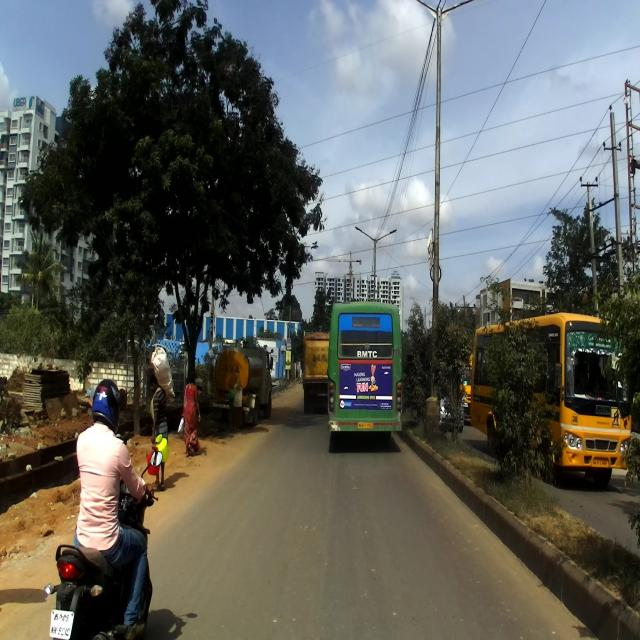bus: (472, 312, 632, 484), (328, 301, 404, 449)
motorcycle: (41, 448, 162, 639)
